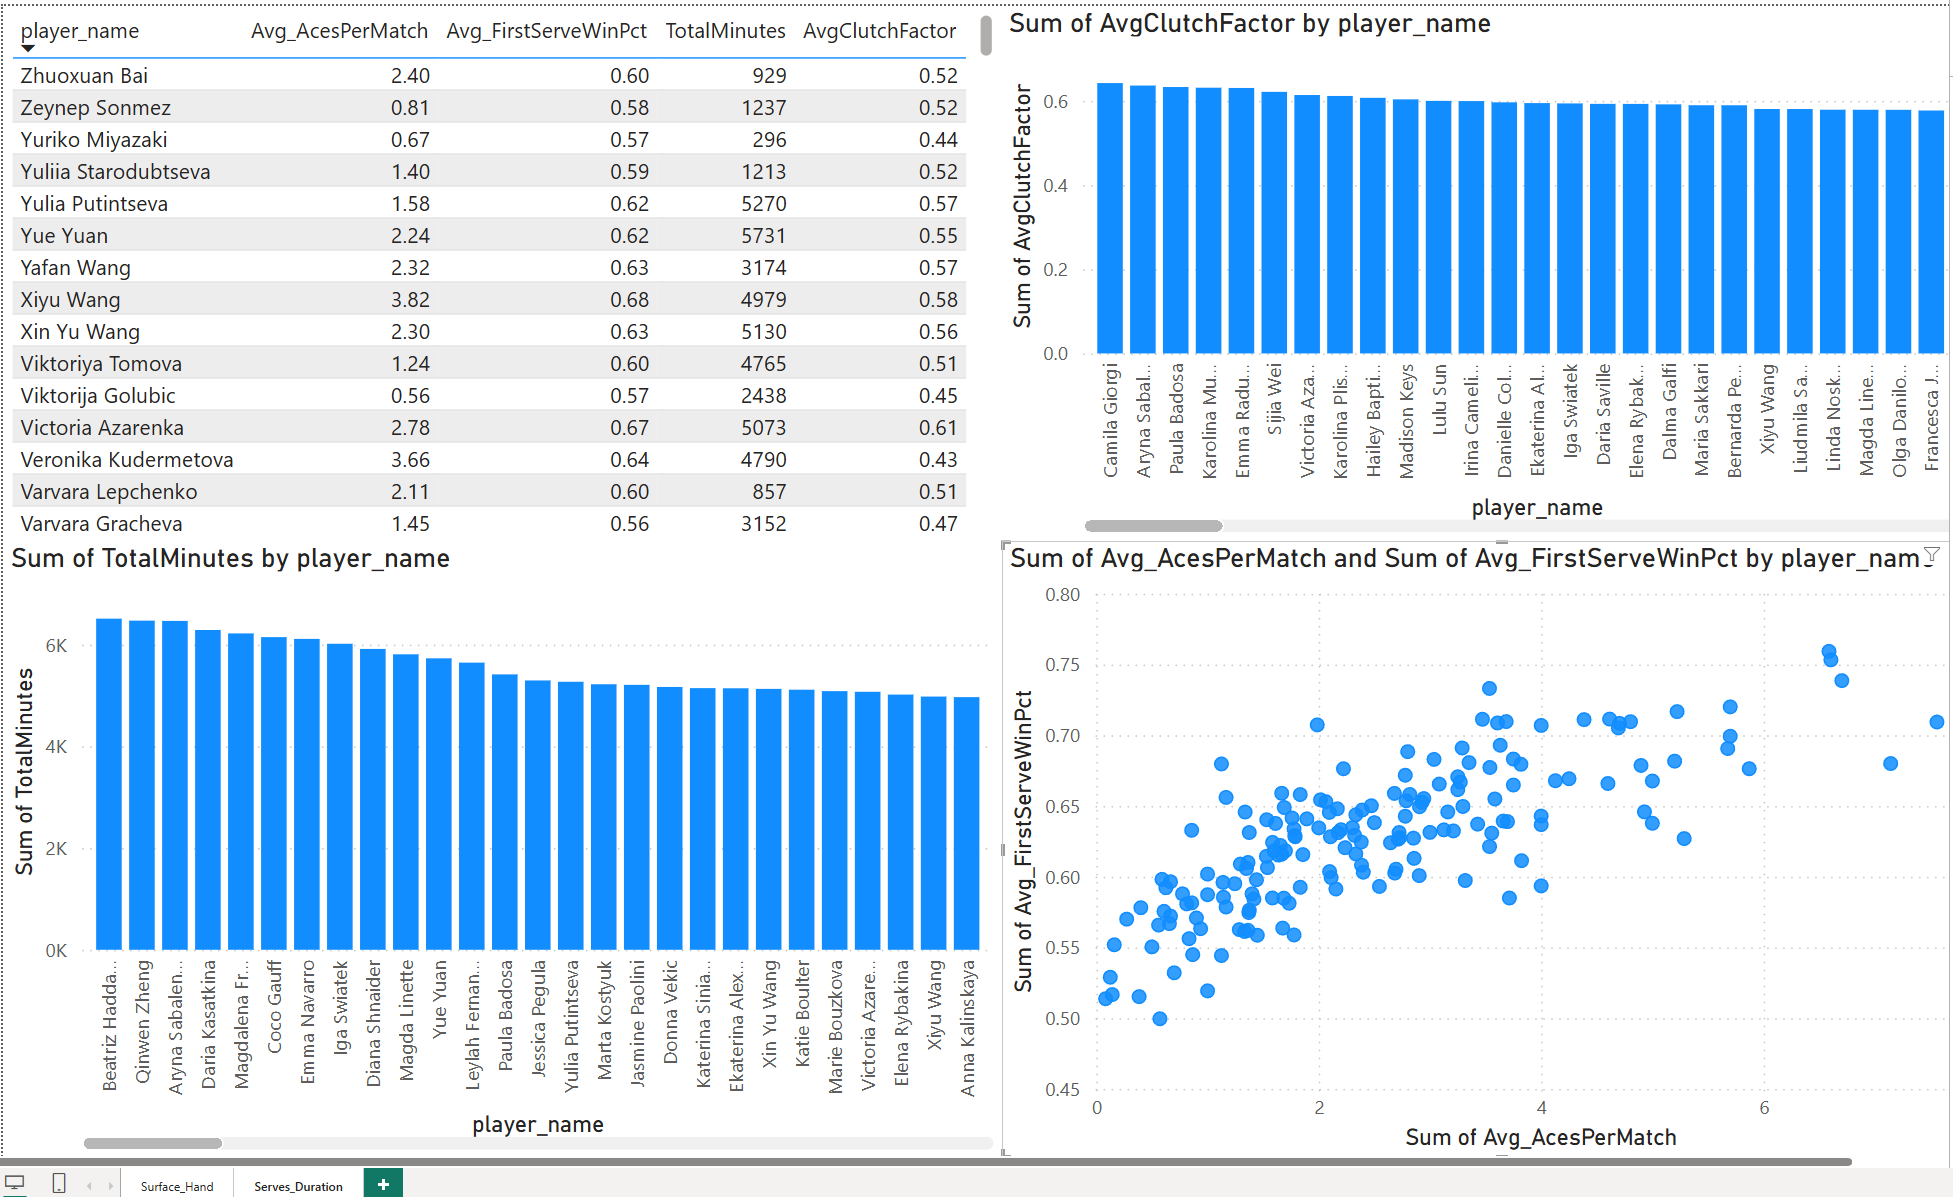

The dashboard page shown, as its layout file describes it:
{"tool":"powerbi","page":{"name":"Serves_Duration","canvas":[1280,720],"ordinal":1},"visuals":[{"type":"tableEx","fields":{"Values":["wta_serve_minutes.player_name","wta_serve_minutes.Avg_AcesPerMatch","wta_serve_minutes.Avg_FirstServeWinPct","wta_serve_minutes.TotalMinutes","wta_serve_minutes.AvgClutchFactor"]},"box":[0,0,624.4,334.4],"z":0},{"type":"columnChart","fields":{"Category":["wta_serve_minutes.player_name"],"Y":["Sum(wta_serve_minutes.TotalMinutes)"]},"box":[0,334.4,624.4,385.6],"z":1},{"type":"scatterChart","fields":{"X":["Sum(wta_serve_minutes.Avg_AcesPerMatch)"],"Y":["Sum(wta_serve_minutes.Avg_FirstServeWinPct)"],"Category":["wta_serve_minutes.player_name"]},"box":[624.4,334.4,624.4,385.6],"z":2},{"type":"columnChart","fields":{"Category":["wta_serve_minutes.player_name"],"Y":["Sum(wta_serve_minutes.AvgClutchFactor)"]},"box":[623.8,0,624.4,334.4],"z":3}]}

Visuals, with their boxes on the page's 1280x720 design canvas (x1, y1, x2, y2). These are canvas units, not pixel positions in the 1953x1197 screenshot, which may show the page scaled, cropped or inside an application window:
tableEx - wta_serve_minutes.player_name x wta_serve_minutes.Avg_AcesPerMatch: x1=0, y1=0, x2=624, y2=334
columnChart - wta_serve_minutes.player_name x Sum(wta_serve_minutes.TotalMinutes): x1=0, y1=334, x2=624, y2=720
scatterChart - Sum(wta_serve_minutes.Avg_AcesPerMatch) x Sum(wta_serve_minutes.Avg_FirstServeWinPct): x1=624, y1=334, x2=1249, y2=720
columnChart - wta_serve_minutes.player_name x Sum(wta_serve_minutes.AvgClutchFactor): x1=624, y1=0, x2=1248, y2=334
